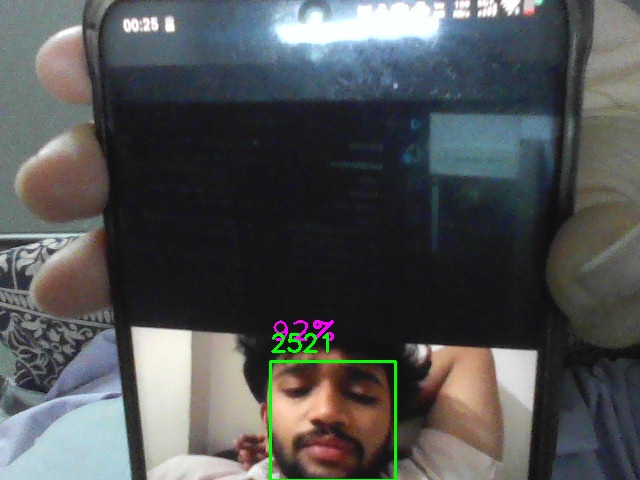fake: (270, 361, 396, 480)
